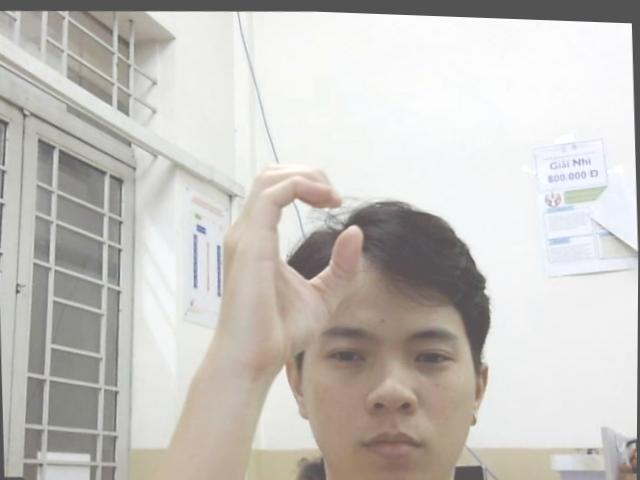C: (215, 153, 368, 371)
